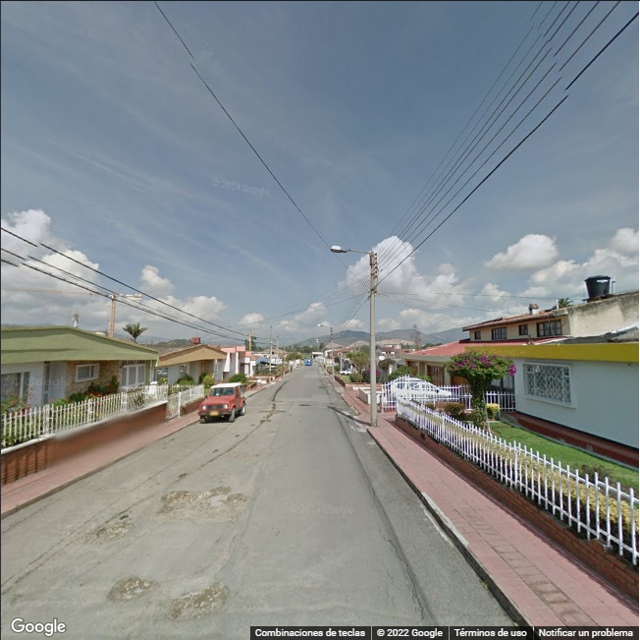D00: (388, 533, 421, 618), (382, 562, 401, 595)
D40: (157, 483, 238, 518), (165, 580, 228, 622), (107, 574, 158, 606), (90, 516, 135, 544)
